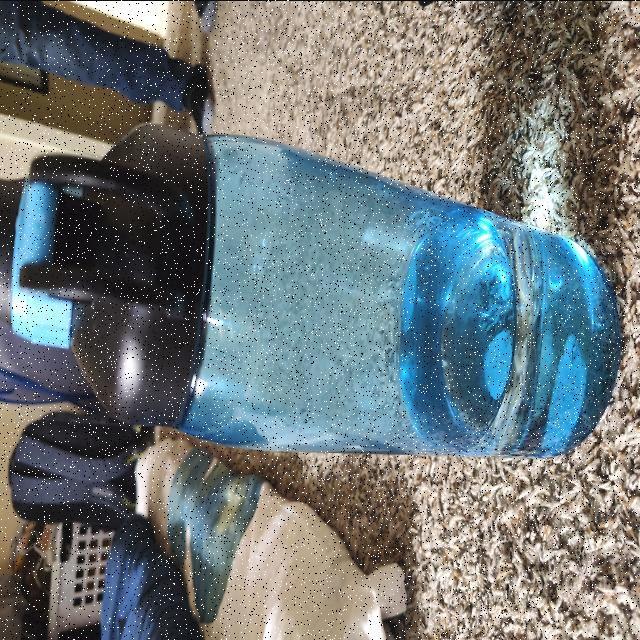bottle: (0, 130, 614, 448)
